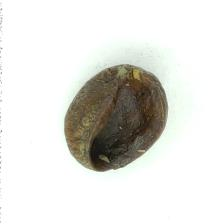NG: (85, 69, 168, 171)
